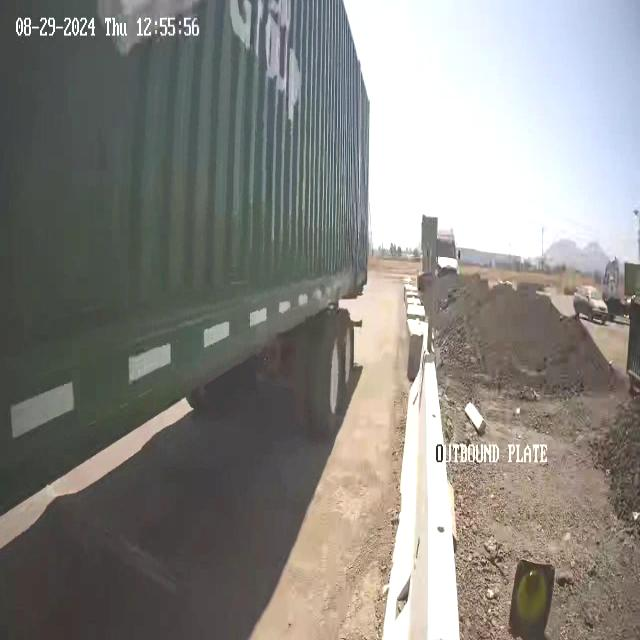TRUCK_CONTAINER: (1, 1, 371, 475)
